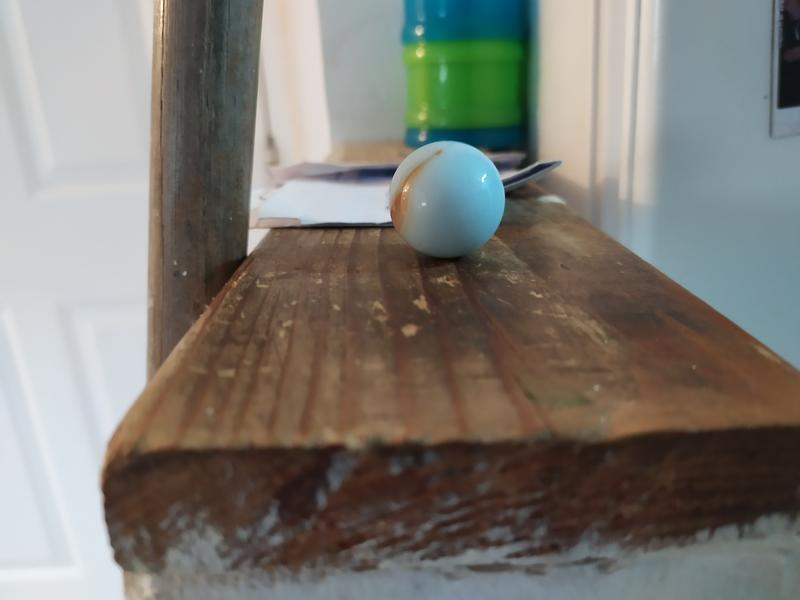Warning: (382, 137, 509, 261)
